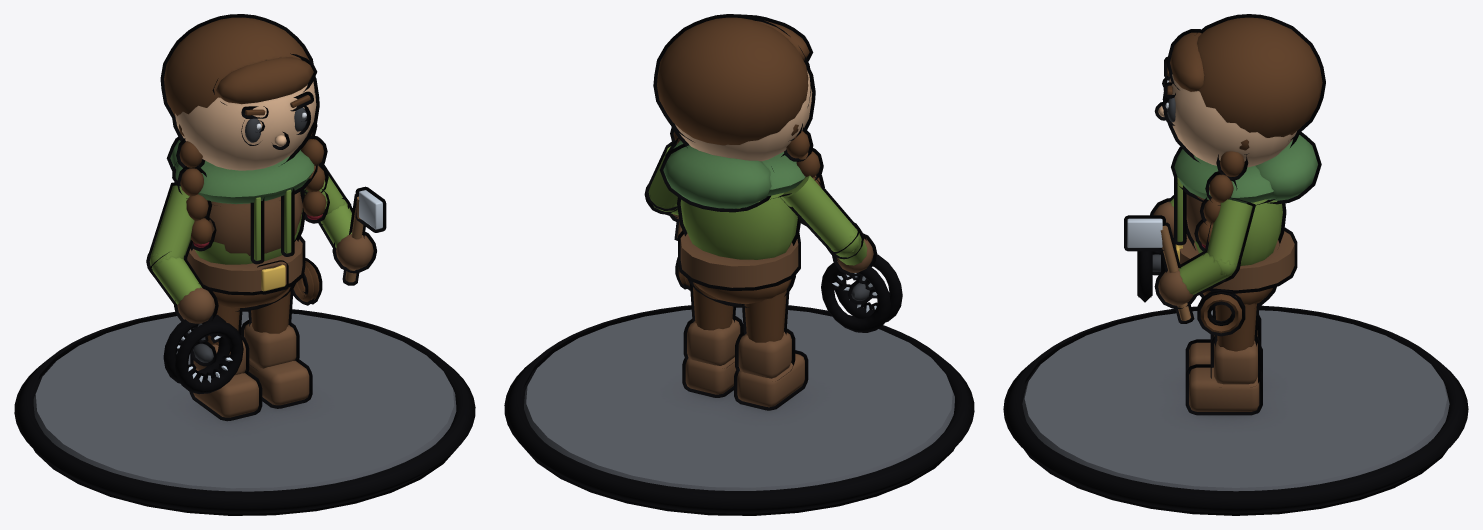
Rendered from trapper.fbx.
3 renders of one model, left to right at view 1: azimuth 30°, elevation 25°; view 2: azimuth 150°, elevation 25°; view 3: azimuth 270°, elevation 25°, orthographic.
Visible parts, largest first — view 1: trapper; view 2: trapper; view 3: trapper.
Boxes of the visible parts, x1,y1,x2,y2 form: trapper: (14,14,475,515); trapper: (504,14,974,515); trapper: (1003,14,1468,515).
Bounding box in the file's own units: 1.58 × 1.5 × 1.58.
Materials: 2 (1 with a texture image).
